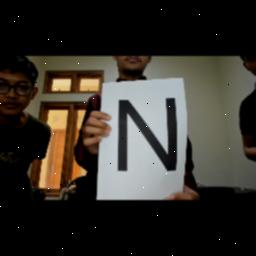n: (114, 98, 180, 176)
